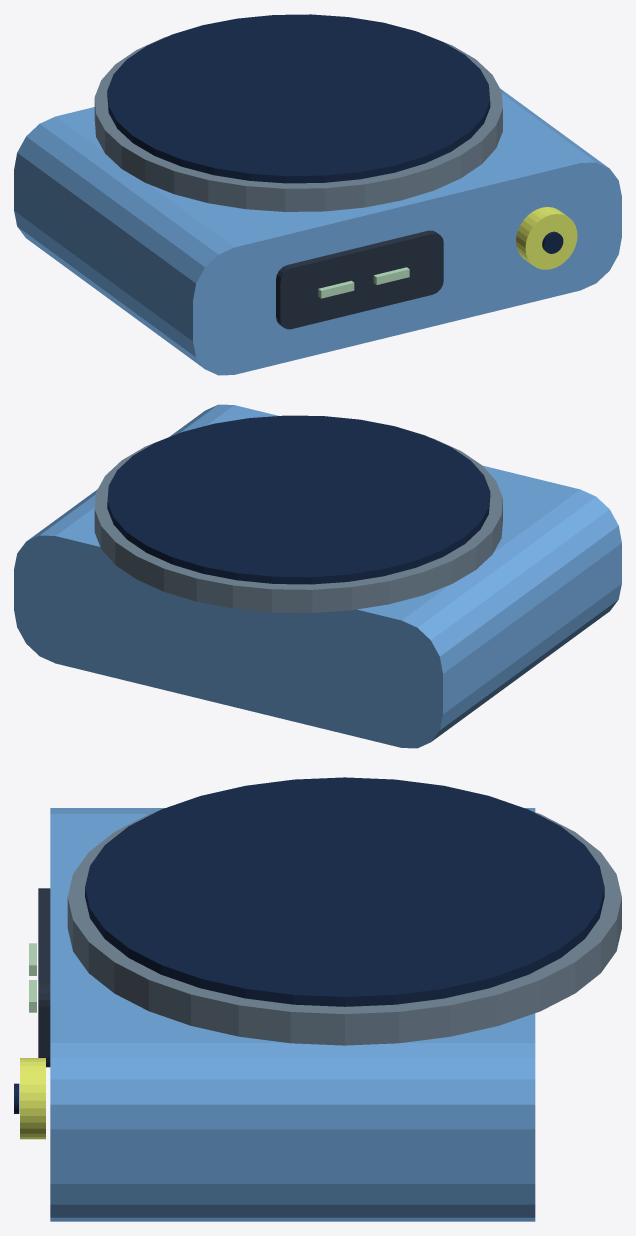
The model's file is scale.glb.
3 views of the same model, one above another, from view 1: azimuth 30°, elevation 25°; view 2: azimuth 150°, elevation 25°; view 3: azimuth 270°, elevation 25° (orthographic). The views are drawn at different scales.
Parts seen in each view (by area): view 1: base, plate face, weighing plate, screen, tare key; view 2: base, plate face, weighing plate; view 3: base, plate face, weighing plate, screen, tare key.
Part boxes in pixels (x1,y1,x2,y2): base: (14, 32, 621, 375); plate face: (107, 14, 490, 183); weighing plate: (94, 35, 502, 211); screen: (276, 230, 443, 329); tare key: (516, 207, 577, 269); base: (14, 404, 621, 748); plate face: (107, 415, 490, 584); weighing plate: (94, 438, 502, 612); base: (50, 808, 535, 1221); plate face: (85, 777, 604, 1006); weighing plate: (67, 811, 621, 1045); screen: (38, 888, 50, 1067); tare key: (20, 1058, 45, 1139).
Size of the model in its own units: 1.55 by 0.545 by 1.4.
